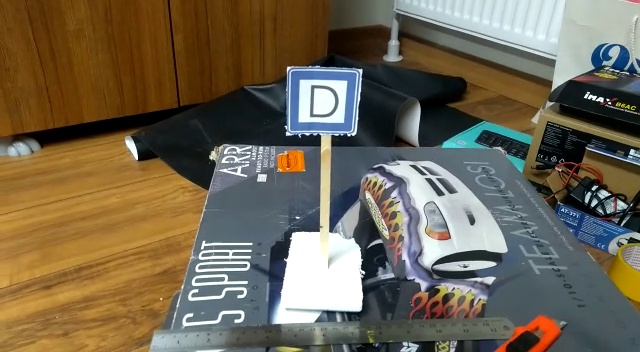durak: (288, 67, 356, 134)
